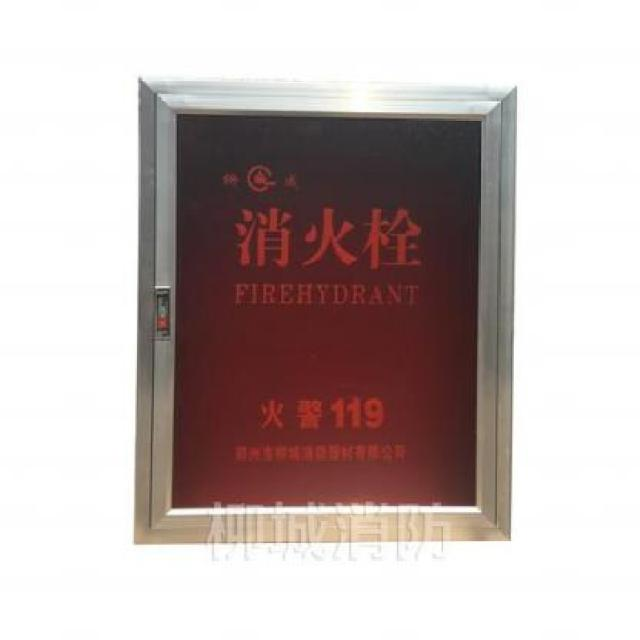firehydrant: (126, 70, 522, 552)
